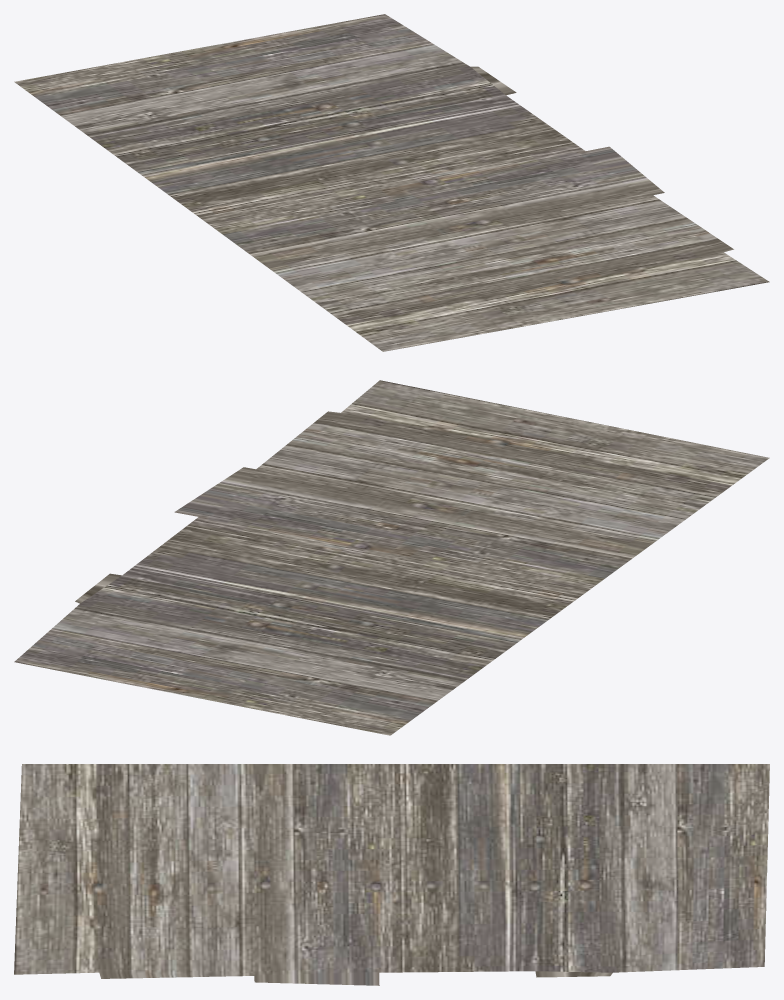
Rendered from room_roof_inside.fbx.
The picture shows the model from 3 angles, top to bottom: view 1: azimuth 30°, elevation 25°; view 2: azimuth 150°, elevation 25°; view 3: azimuth 270°, elevation 25°; orthographic projection. The views are drawn at different scales.
Parts seen in each view (by area): view 1: room_foor_inside; view 2: room_foor_inside; view 3: room_foor_inside.
Part boxes in pixels (x1=…): room_foor_inside: x1=14, y1=14, x2=769, y2=351; room_foor_inside: x1=14, y1=380, x2=769, y2=735; room_foor_inside: x1=14, y1=764, x2=769, y2=985.
Bounding box in the file's own units: 328 × 17.2 × 526.
